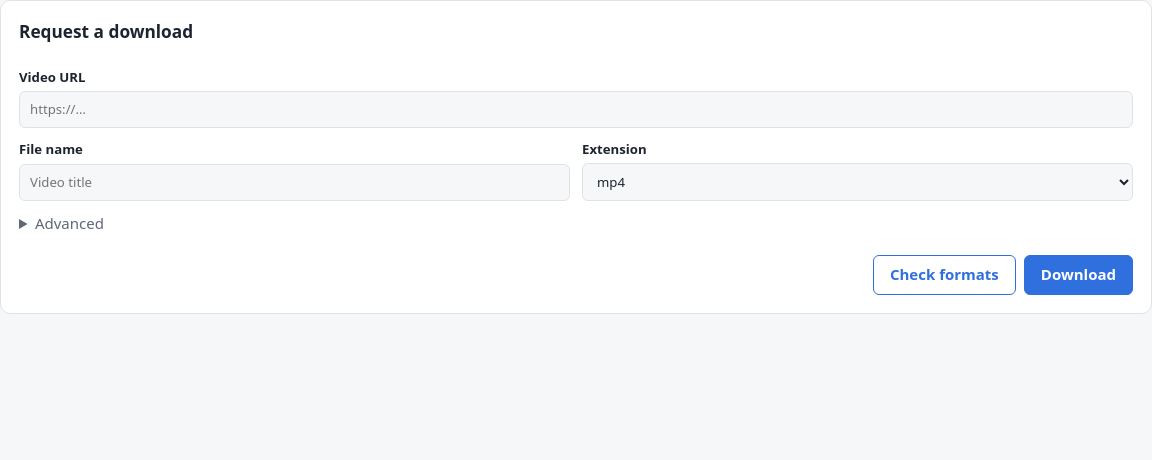
Test: DownloadForm › lists formats and copies the chosen extension
Type "https://example.com/v" into the field labelled "Video URL" at (576, 110), box [19,91,1133,128]
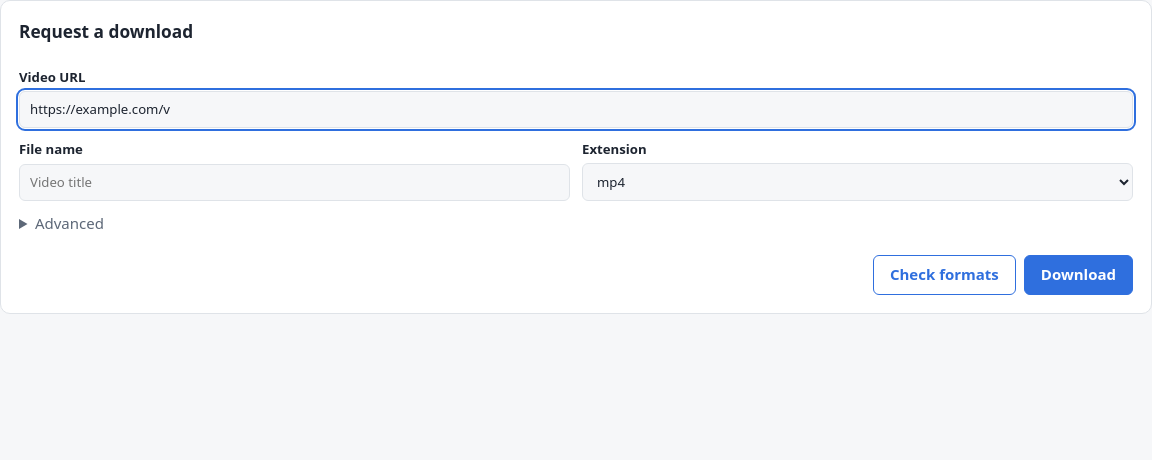
Click the button "Check formats" at (944, 275), box [873,255,1016,295]
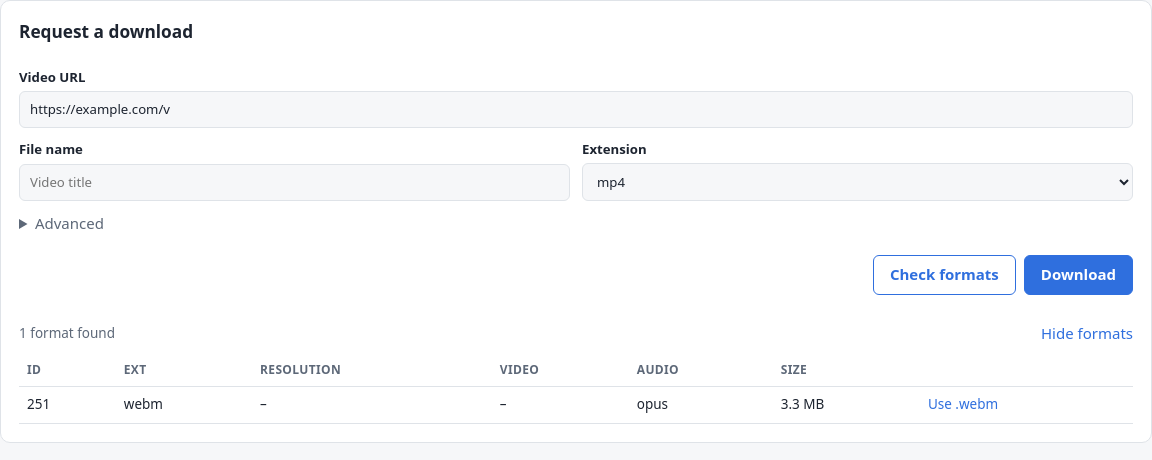
Click the button "Use .webm" at (963, 405), box [928,395,998,415]
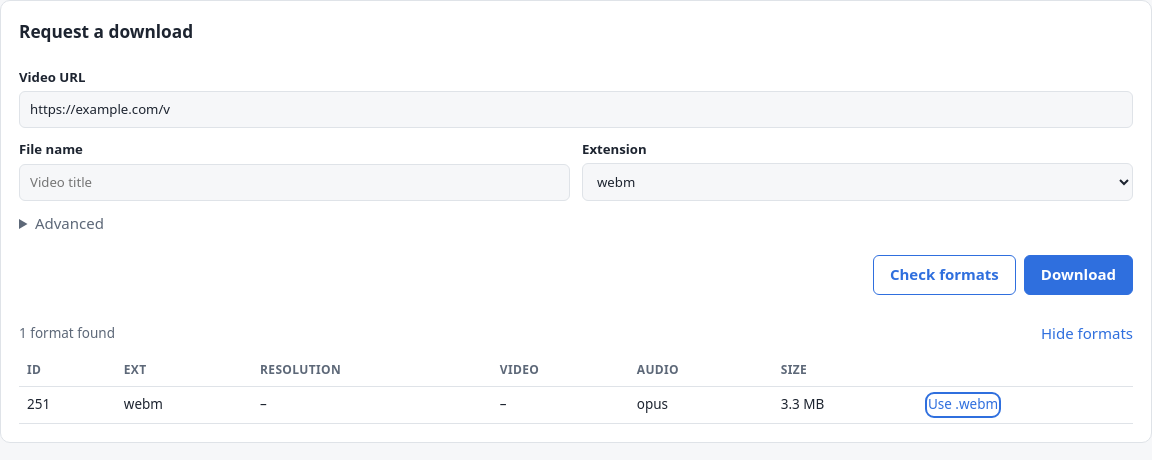
Expected: the text "3.3 MB" is shown, [773,386,920,423]
Expected: the dropdown labelled "Extension" shows "webm", [582,163,1133,201]
